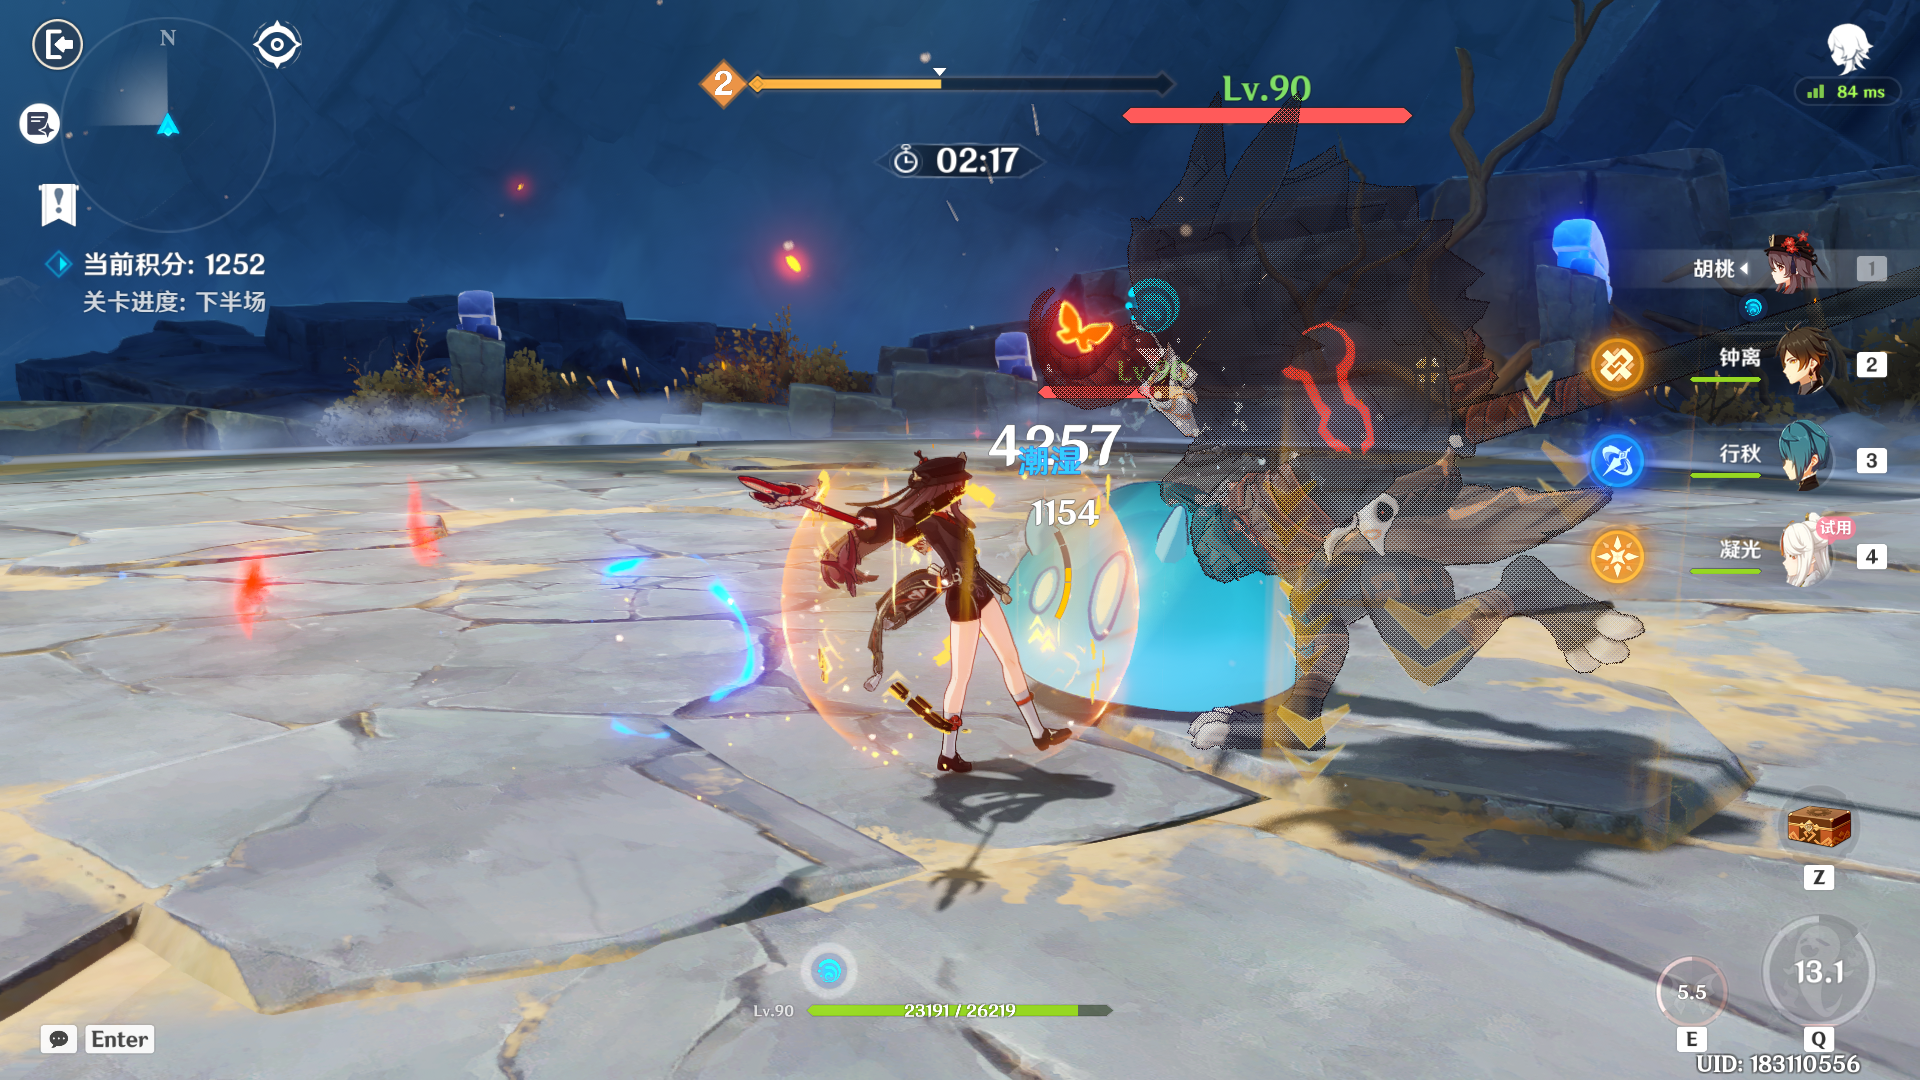bighili: (1040, 117, 1669, 847)
character: (773, 430, 1125, 852)
